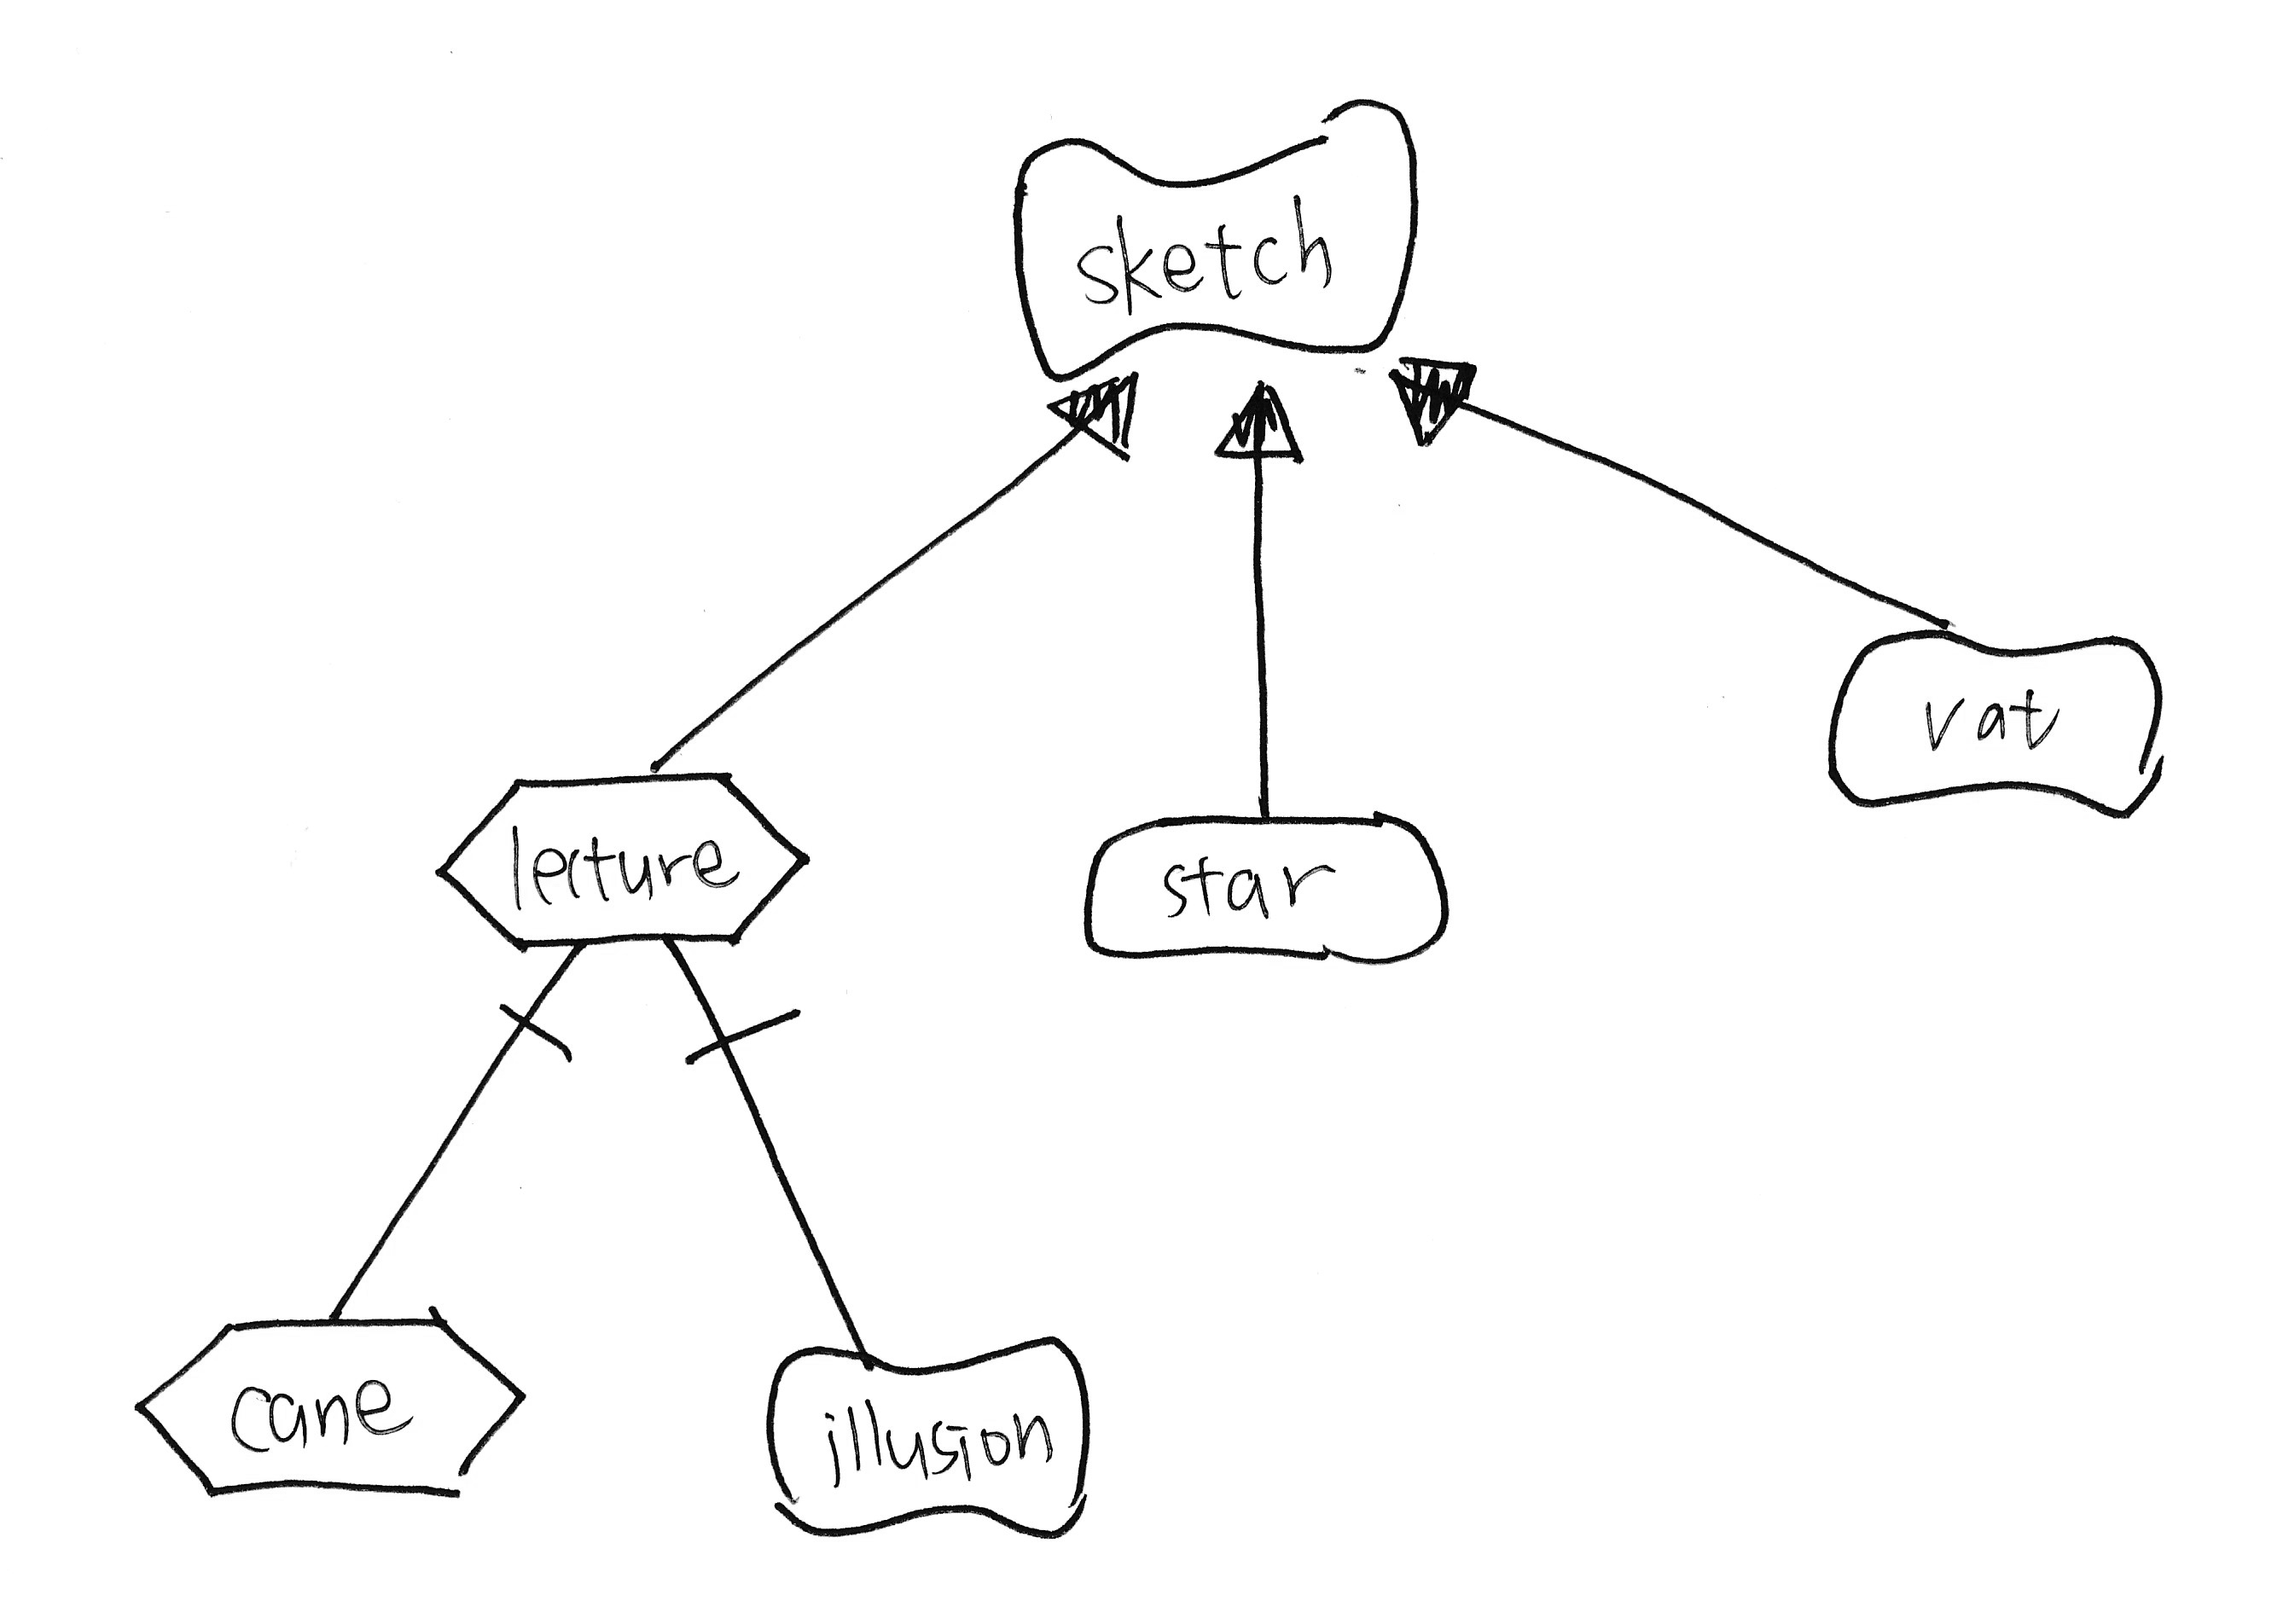and: (661, 970, 816, 1084), (480, 968, 589, 1081)
goal: (1065, 786, 1470, 995)
or: (1201, 362, 1320, 480), (1380, 341, 1493, 464), (1037, 359, 1148, 471)
quality: (990, 76, 1435, 392), (747, 1318, 1109, 1564), (1806, 608, 2178, 842)
task: (120, 1294, 534, 1520), (417, 749, 819, 965)
